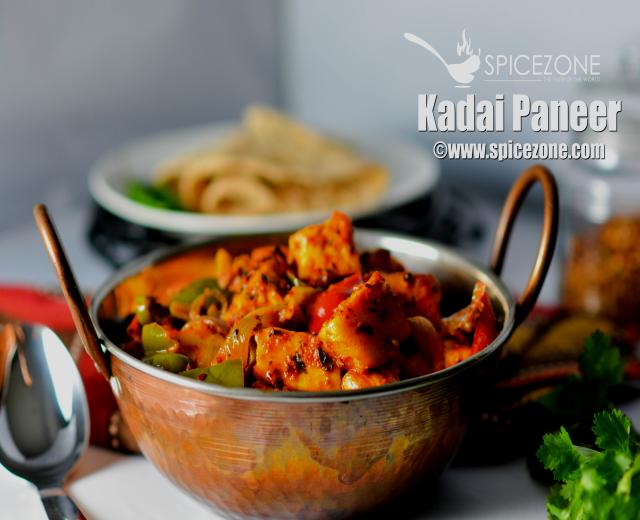kadai paneer: (92, 230, 513, 518)
